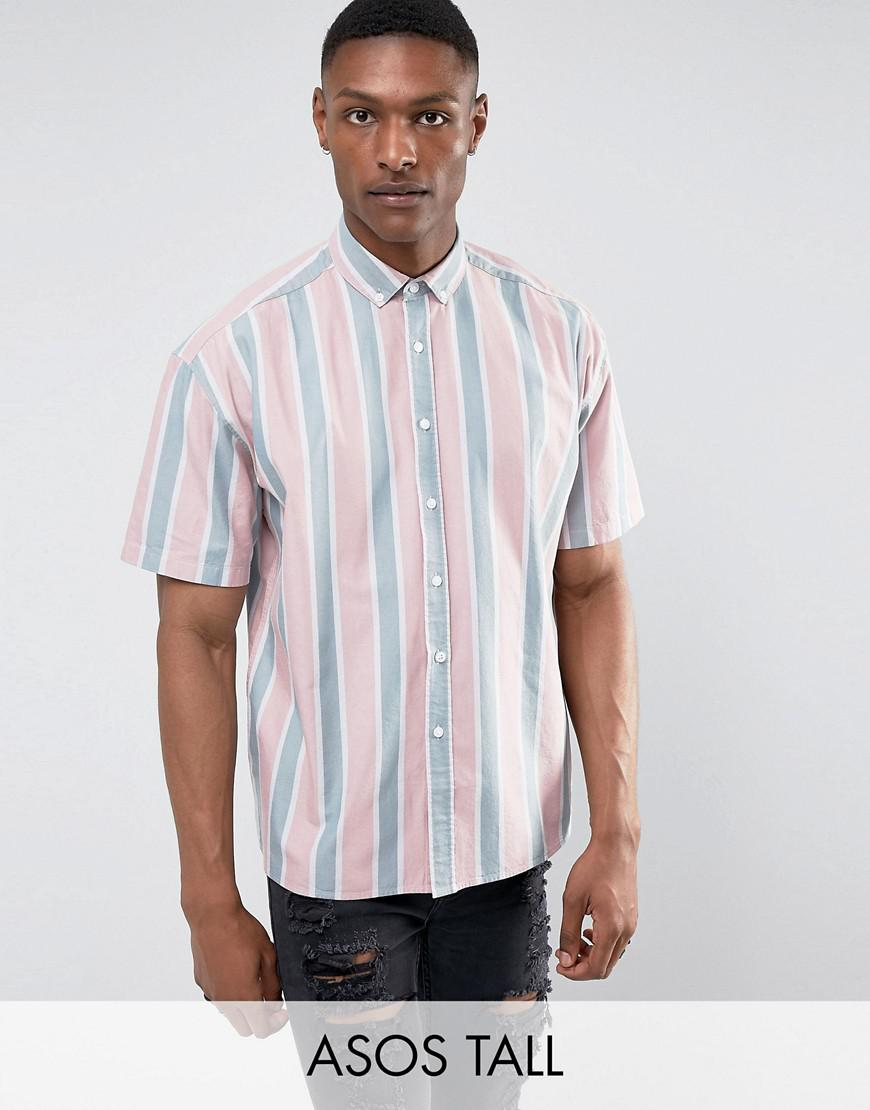teeshirt: (113, 235, 664, 903)
